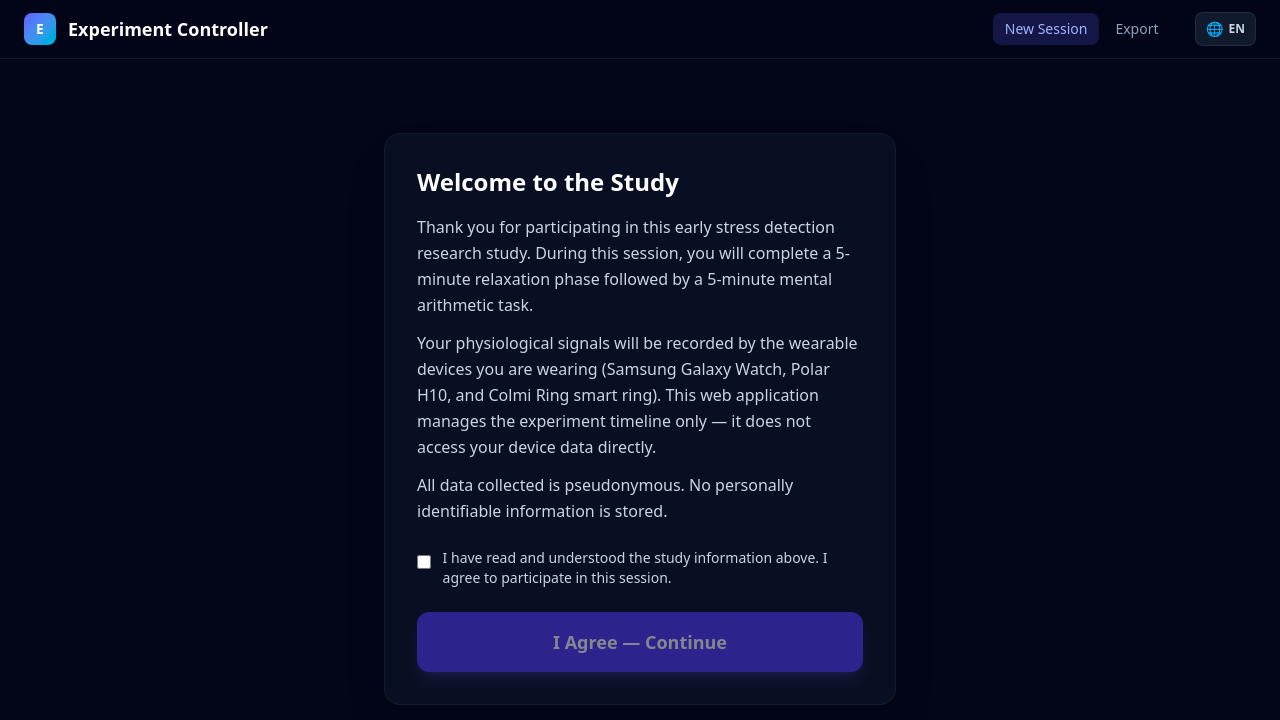
Scenario: Session Creation › proceeds to participant code step after agreeing
The width and height of the screenshot is (1280, 720).
What coordinates should you click on to do the following:
check the checkbox with id "consent-checkbox"
I would click on:
 (424, 562)
Its box is [417, 552, 431, 572].
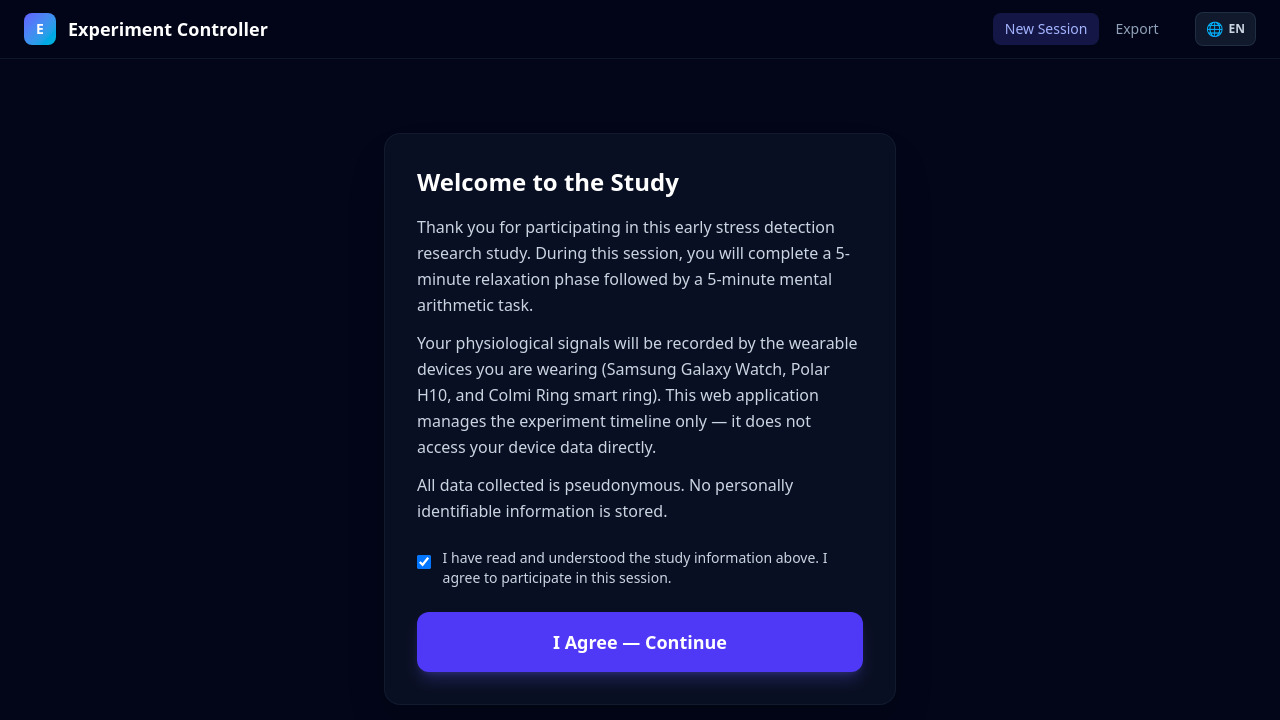
Expected: the element with id "consent-agree-btn" is enabled
What coordinates should you click on to do the following:
click the button with id "consent-agree-btn"
I would click on:
 (640, 642)
Its box is [417, 612, 863, 672].
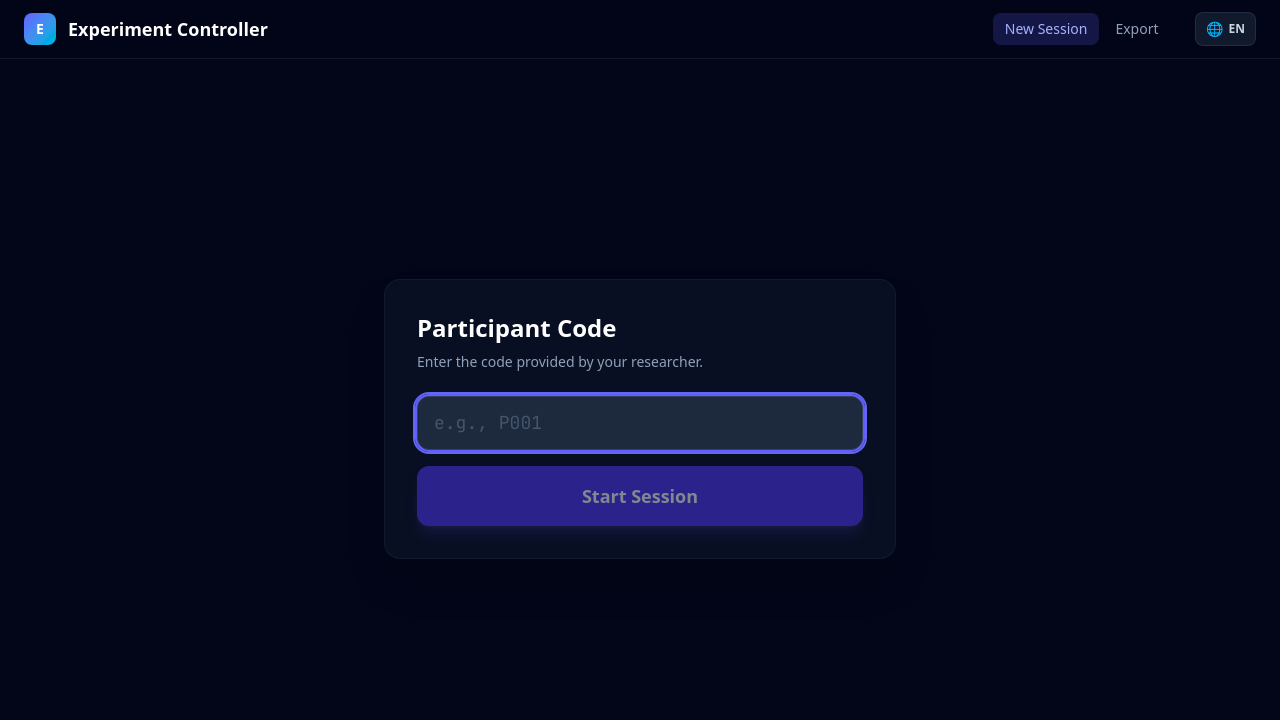
Expected: the field with placeholder "e.g., P001" is shown, [417, 396, 863, 450]
Expected: the heading "Participant Code" is shown, [417, 311, 616, 344]
